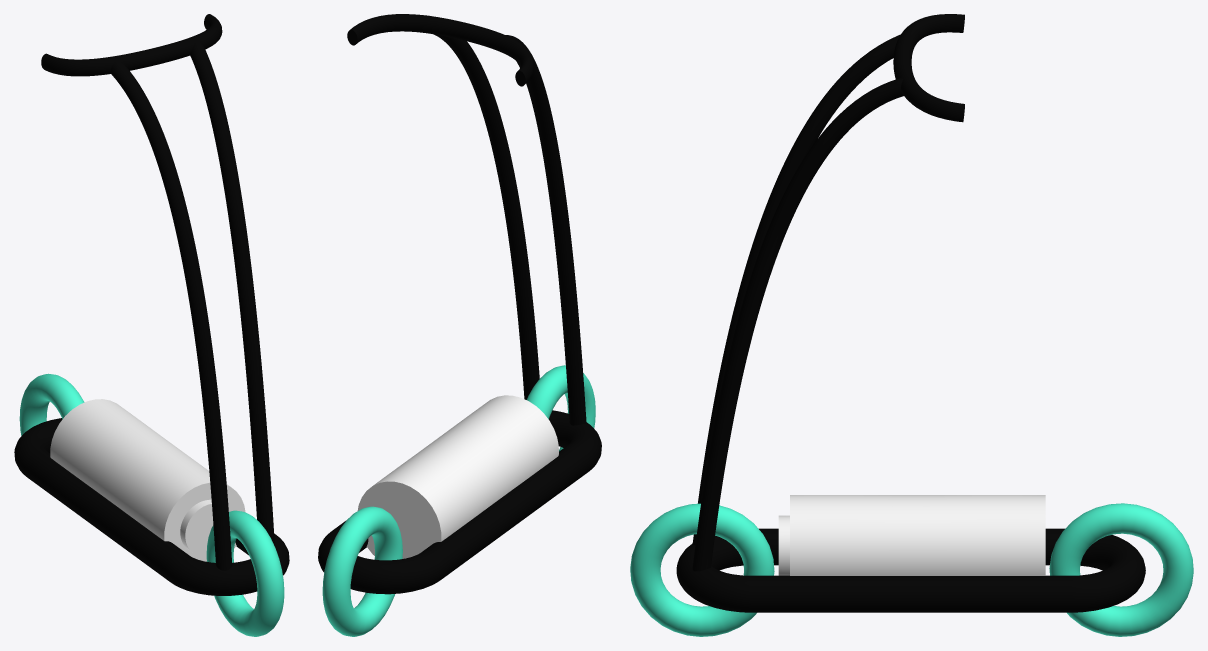
Rendered from Scooter (1).fbx.
3 views of the same model, side by side, from view 1: azimuth 30°, elevation 25°; view 2: azimuth 150°, elevation 25°; view 3: azimuth 270°, elevation 25° (orthographic). The views are drawn at different scales.
Visible parts, largest first — view 1: Object_7, Object_1, Object_5, Object_6, Object_3, Object_4, Object_2; view 2: Object_7, Object_1, Object_6, Object_5, Object_2, Object_4, Object_3; view 3: Object_7, Object_1, Object_6, Object_2, Object_3, Object_5, Object_4.
Boxes of the visible parts, x1,y1,x2,y2 form: Object_7: (50, 399, 245, 561); Object_1: (14, 418, 289, 595); Object_5: (110, 61, 232, 570); Object_6: (190, 36, 274, 546); Object_3: (206, 510, 284, 636); Object_4: (41, 14, 222, 76); Object_2: (19, 373, 84, 435); Object_7: (357, 395, 558, 558); Object_1: (318, 410, 601, 594); Object_6: (426, 15, 539, 399); Object_5: (505, 35, 586, 425); Object_2: (322, 506, 402, 636); Object_4: (347, 14, 533, 86); Object_3: (526, 365, 595, 451); Object_7: (778, 495, 1045, 575); Object_1: (676, 528, 1145, 612); Object_6: (692, 77, 908, 571); Object_2: (1049, 503, 1193, 636); Object_3: (630, 503, 774, 636); Object_5: (692, 34, 901, 545); Object_4: (893, 14, 964, 122).
Size of the model in its own units: 78.25 by 197 by 224.
